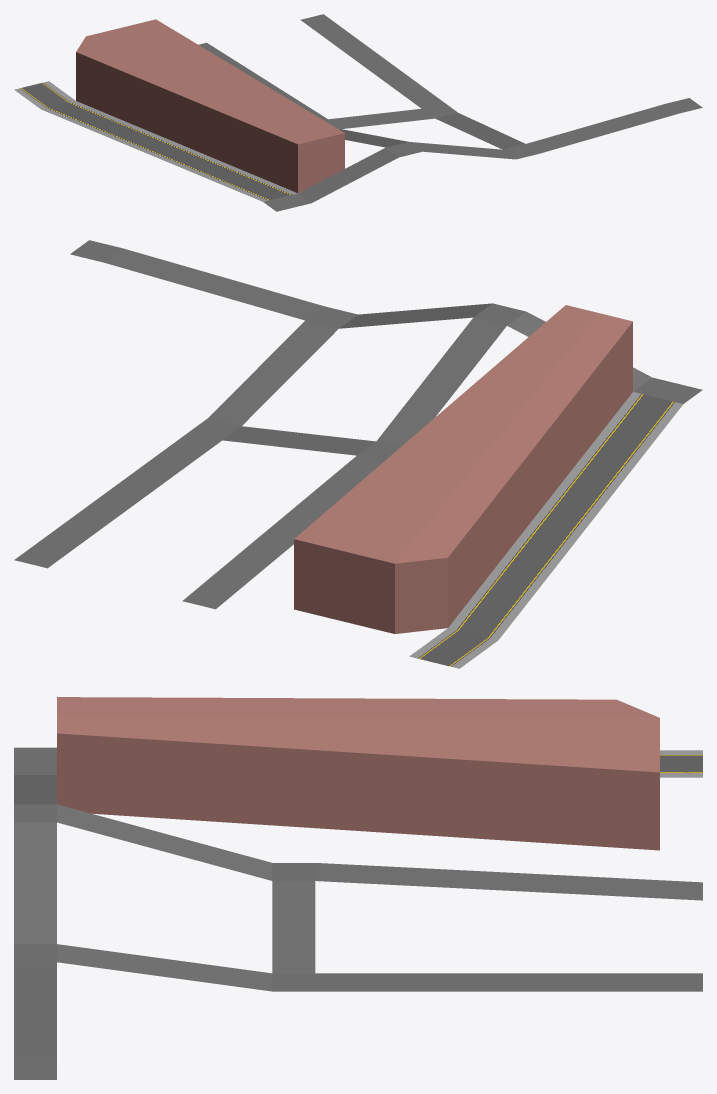
File: lebis.glb
3 views of the same model, one above another, from view 1: azimuth 30°, elevation 25°; view 2: azimuth 150°, elevation 25°; view 3: azimuth 270°, elevation 25° (orthographic). The views are drawn at different scales.
Visible parts, largest first — view 1: Cube, Plane; view 2: Cube, Plane; view 3: Cube, Plane.
Part boxes in pixels (x1,y1,x2,y2): Cube: (76, 19, 344, 193); Plane: (14, 14, 702, 211); Cube: (294, 305, 632, 633); Plane: (14, 240, 702, 668); Cube: (57, 697, 659, 850); Plane: (14, 747, 702, 1079).
Bounding box in the file's own units: 81 × 12 × 64.
3 materials, 1 textured.
